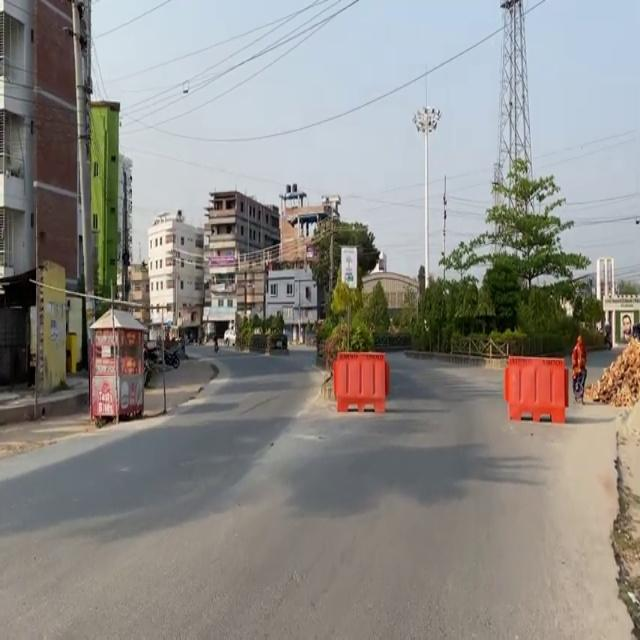Construction-barrier: (610, 395, 639, 639), (0, 388, 88, 425), (403, 348, 508, 369)
Downstairs: (87, 307, 148, 424)
Fallen-tree: (144, 344, 180, 369)
Garbage: (503, 355, 567, 423), (332, 350, 389, 412)
Garbage-bin: (570, 334, 587, 404), (622, 314, 632, 342), (603, 320, 612, 349), (213, 335, 219, 353)
